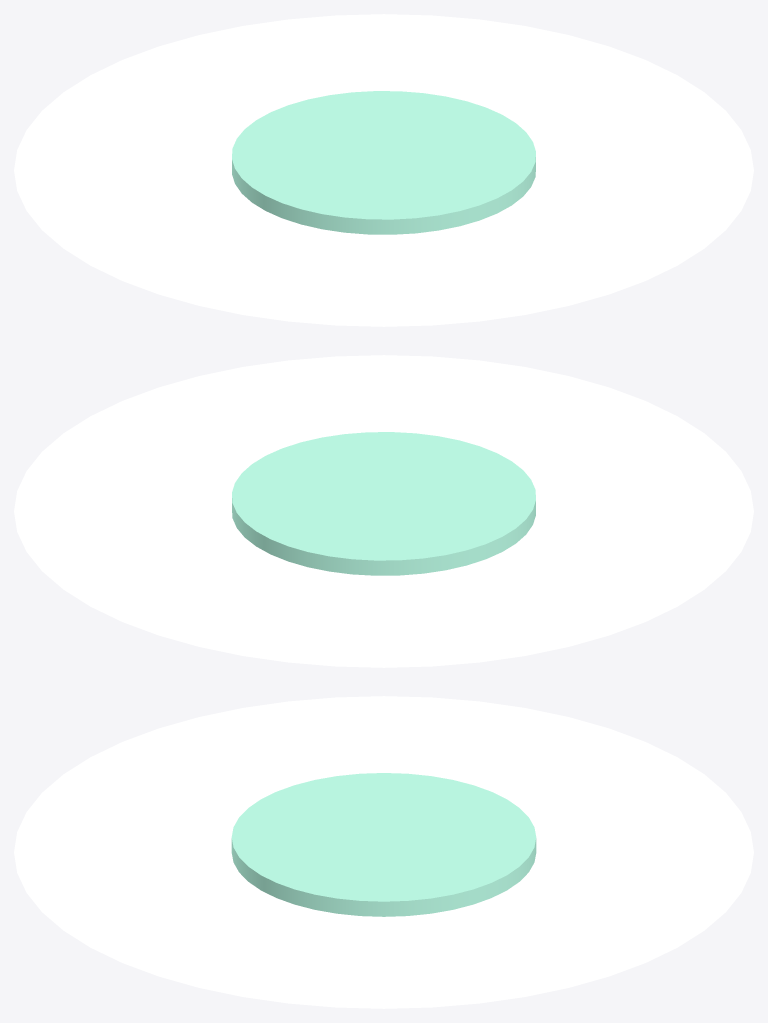
File: pad-86ffd0.glb
The picture shows the model from 3 angles, top to bottom: view 1: azimuth 30°, elevation 25°; view 2: azimuth 150°, elevation 25°; view 3: azimuth 270°, elevation 25°; orthographic projection.
Visible parts, largest first — view 1: plat; view 2: plat; view 3: plat.
Part boxes in pixels (left/top/right/bottom): plat: left=14, top=14, right=753, bottom=326; plat: left=14, top=355, right=753, bottom=667; plat: left=14, top=696, right=753, bottom=1008.
Size of the model in its own units: 3.4 by 0.08 by 3.4.
2 materials, 2 textured.
